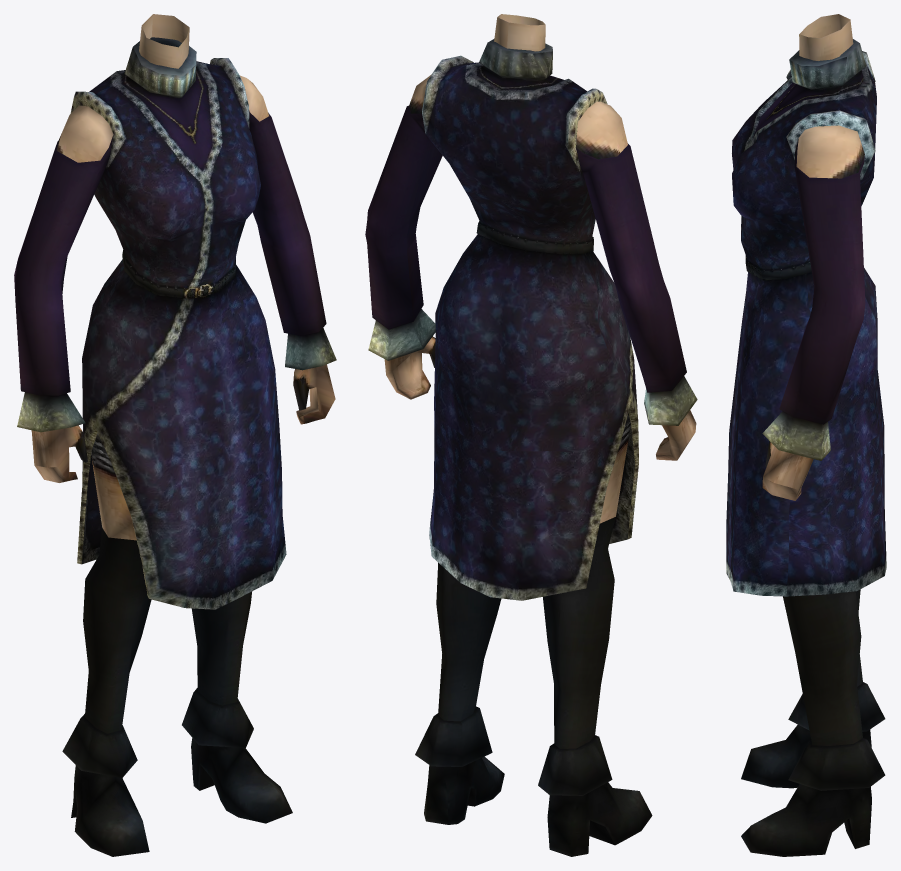
File: KM_DRESS_01.glb
The picture shows the model from 3 angles, left to right: view 1: azimuth 30°, elevation 25°; view 2: azimuth 150°, elevation 25°; view 3: azimuth 270°, elevation 25°; orthographic projection. The views are drawn at different scales.
Visible parts, largest first — view 1: KM_DRESS_01; view 2: KM_DRESS_01; view 3: KM_DRESS_01.
Boxes of the visible parts, x1=… form: KM_DRESS_01: x1=14, y1=14, x2=336, y2=856; KM_DRESS_01: x1=365, y1=14, x2=697, y2=856; KM_DRESS_01: x1=726, y1=14, x2=886, y2=856.
Size of the model in its own units: 0.6694 by 1.67 by 0.307.
Materials: 2 (2 with a texture image).
